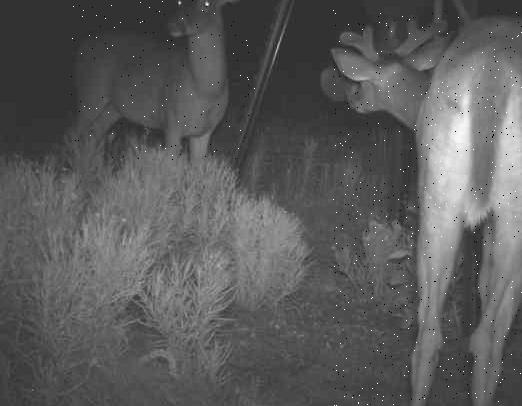Deer: (333, 10, 522, 406), (69, 0, 255, 161)
